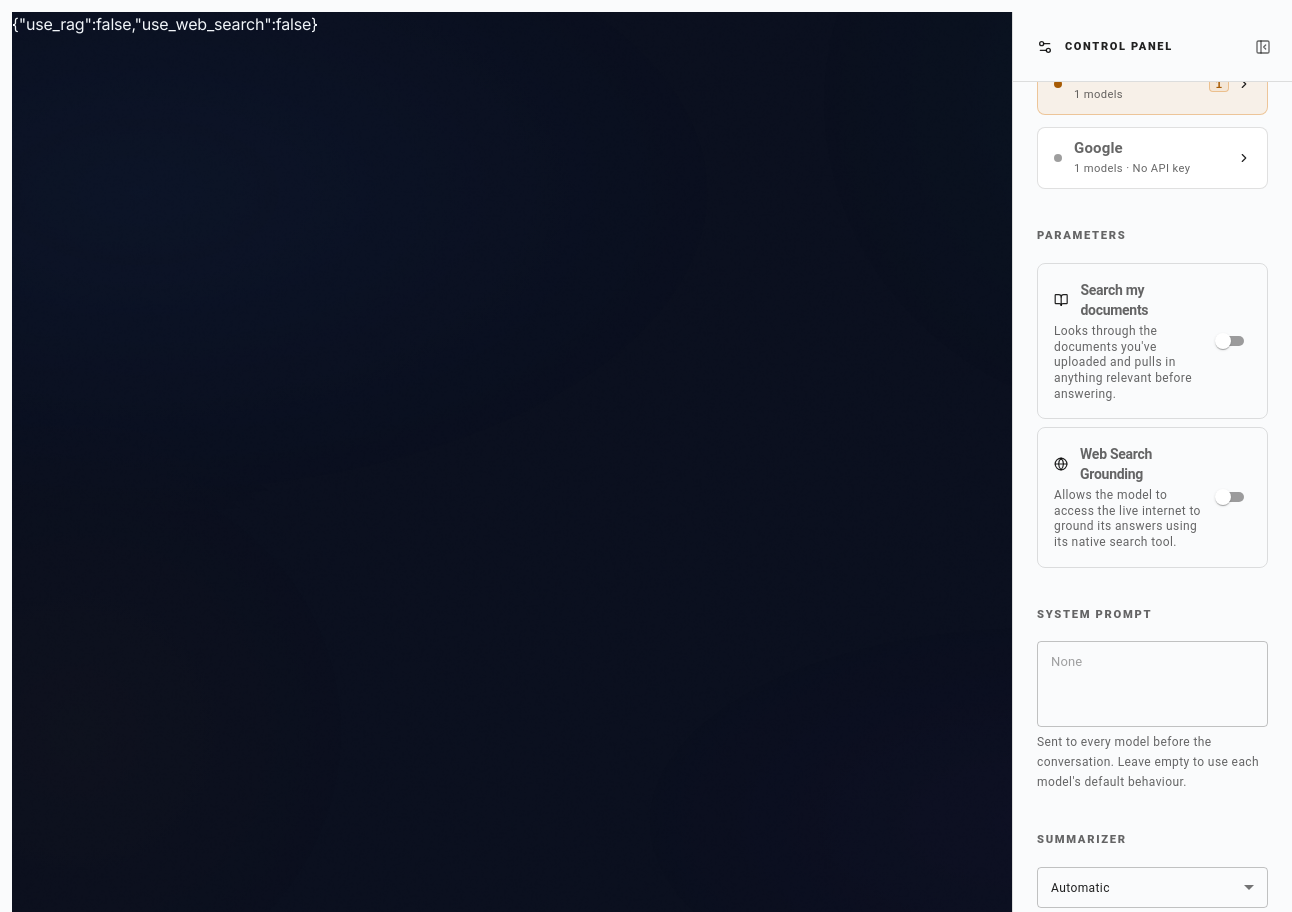
it: ControlPanel wiring › flips one parameter at a time
The width and height of the screenshot is (1292, 912).
(page scrolled)
What coordinates should you click on to do the following:
click the switch named "Web Search Grounding"
I would click on:
 (1223, 497)
Its box is [1215, 489, 1231, 505].
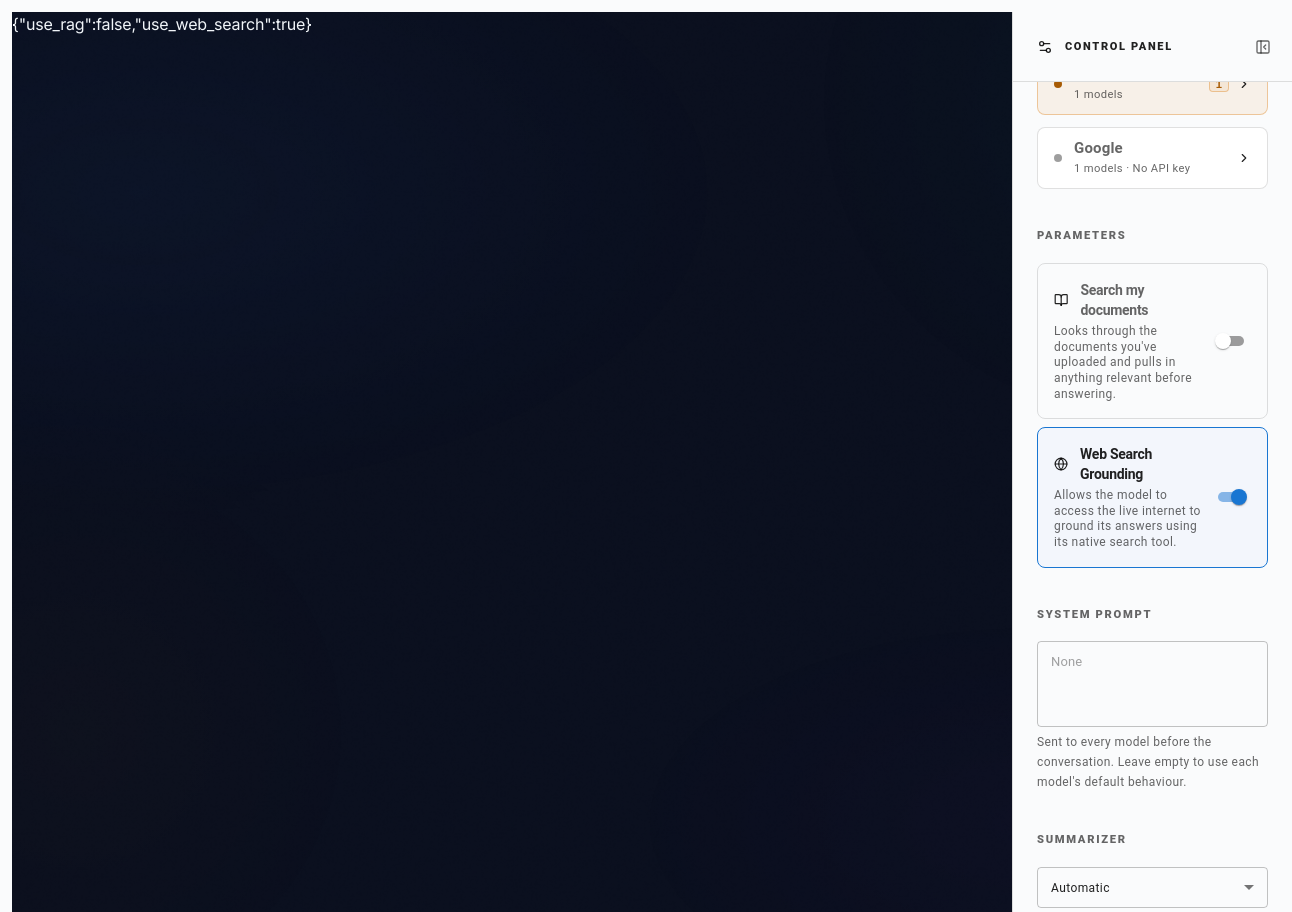
expect the text with test id "toggles" reads "{\"use_rag\":false,\"use_web_search\":true}": met, box [12, 14, 312, 34]
What coordinates should you click on to do the following:
click the switch named "Search my documents"
I would click on:
 (1223, 341)
Its box is [1215, 333, 1231, 349].
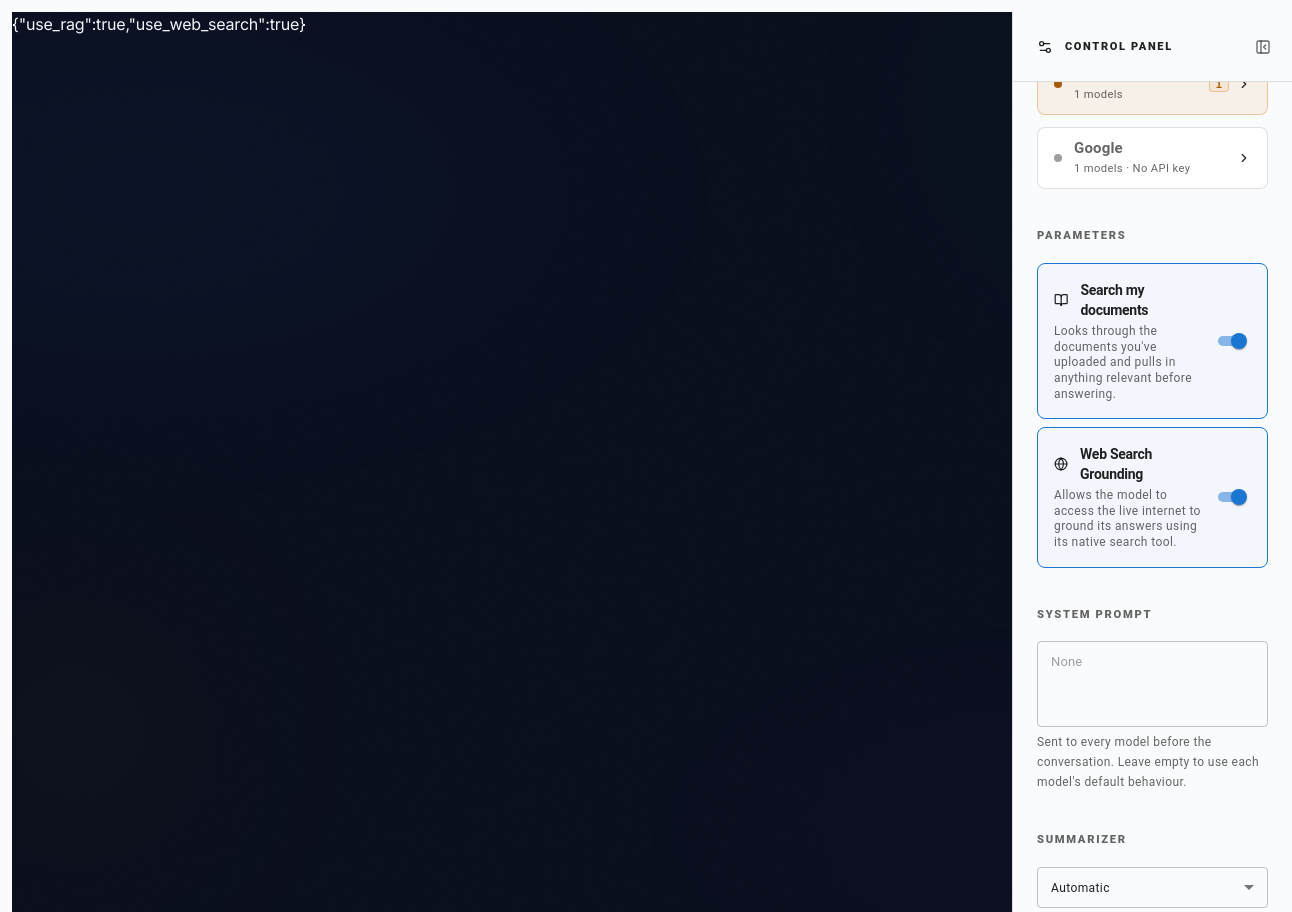
expect the text with test id "toggles" reads "{\"use_rag\":true,\"use_web_search\":true}": met, box [12, 14, 306, 34]
